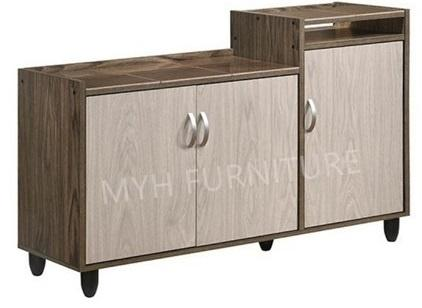cabinet_door: (84, 94, 195, 253), (306, 47, 407, 220), (202, 86, 301, 239)
handle: (183, 112, 199, 151), (198, 111, 212, 150), (304, 98, 317, 134)
